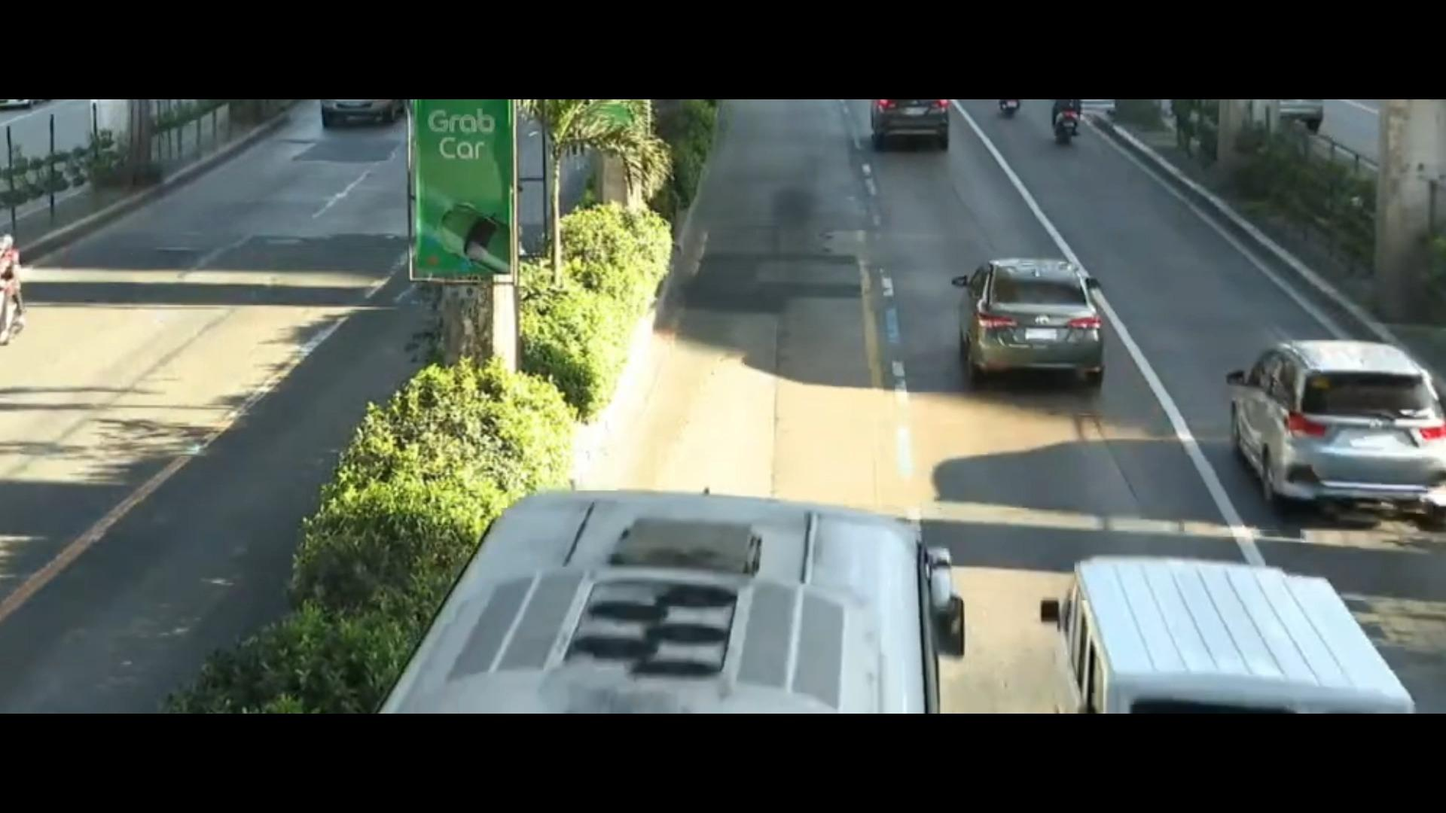Bus: (328, 473, 998, 718)
Motorcycle: (1038, 98, 1090, 143)
Multicab: (996, 510, 1427, 712)
SUV: (1187, 315, 1446, 542)
Sedan: (930, 236, 1135, 410)
